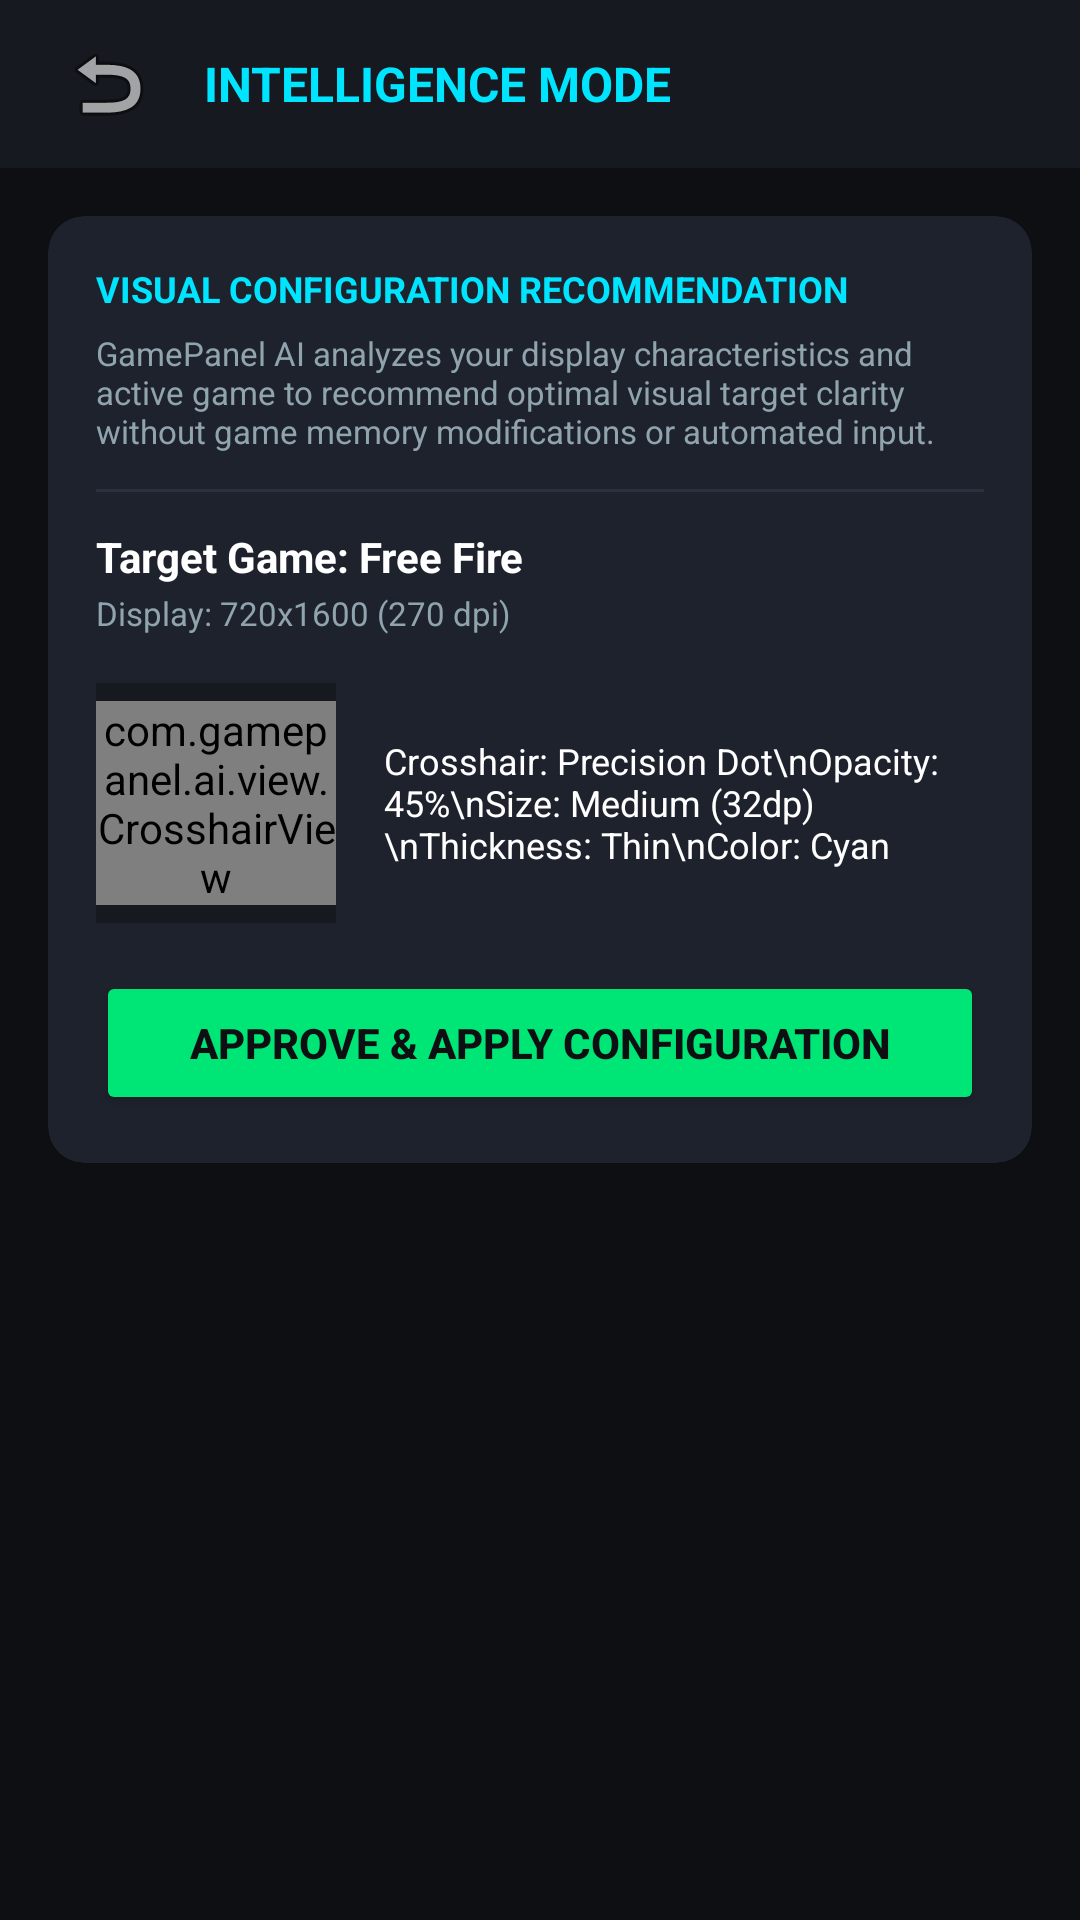

Where to tap for icons on this 1080 × 1920 app screen, as (x=x, y=y):
Back: (x=109, y=84)
